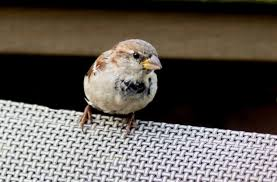hsparrow: (74, 36, 164, 147)
